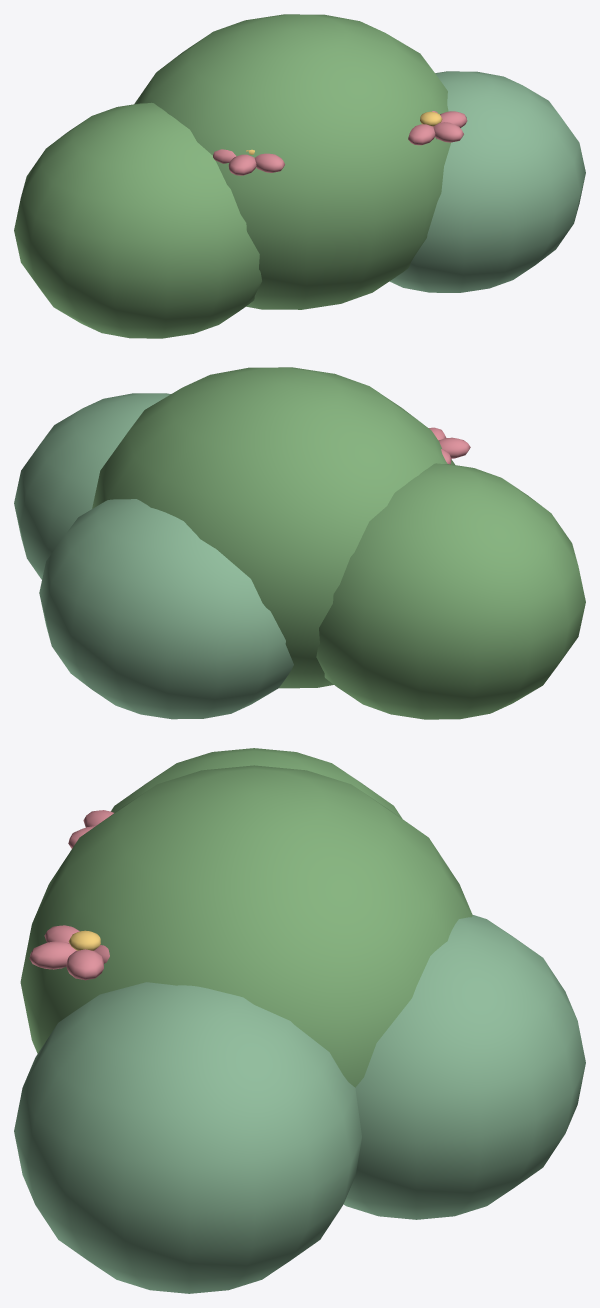
The model's file is arbusto-cartoon.obj.
The picture shows the model from 3 angles, top to bottom: view 1: azimuth 30°, elevation 25°; view 2: azimuth 150°, elevation 25°; view 3: azimuth 270°, elevation 25°; orthographic projection. The views are drawn at different scales.
Parts seen in each view (by area): view 1: volume; view 2: volume; view 3: volume.
Part boxes in pixels (x1,y1,x2,y2): volume: (14,14,585,338); volume: (14,367,585,719); volume: (14,748,585,1293).
Size of the model in its own units: 1.32 by 0.65 by 0.881.
1 material, 1 textured.
